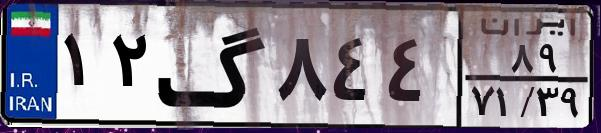1: (57, 26, 110, 100), (495, 70, 520, 125)
2: (110, 28, 156, 98)
3: (535, 70, 560, 125)
4: (385, 28, 445, 110), (330, 28, 385, 110)
7: (470, 70, 495, 125)
8: (270, 28, 330, 110), (508, 27, 537, 80)
9: (560, 70, 590, 125), (537, 27, 568, 80)
گ: (156, 12, 270, 120)
